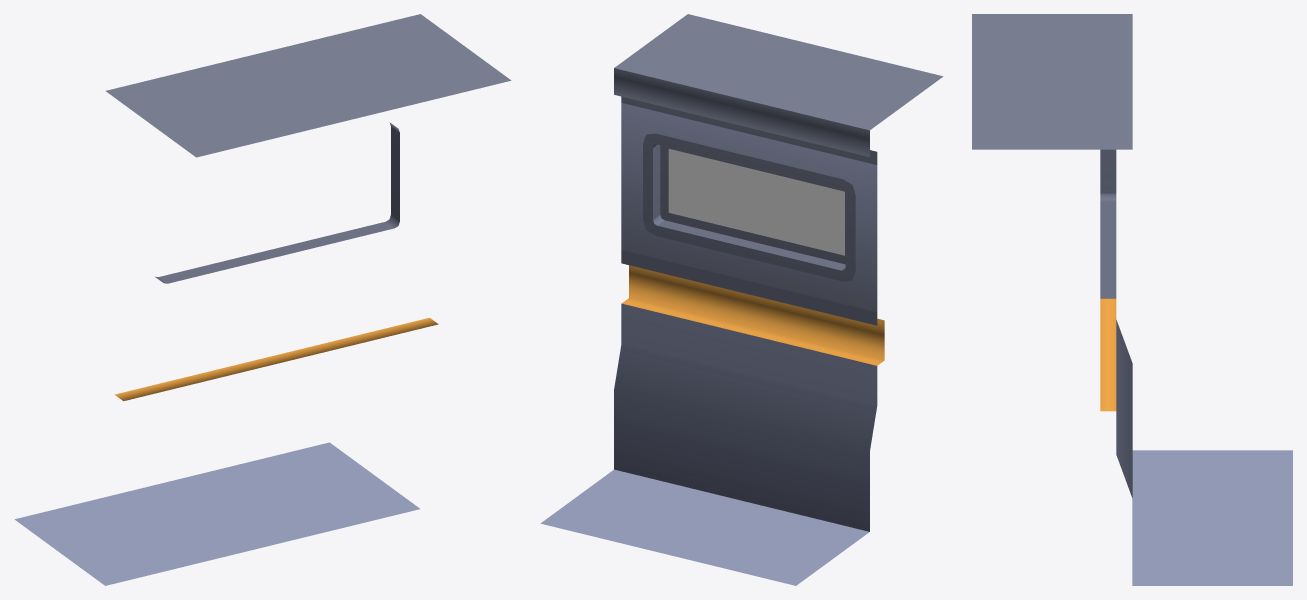
The picture shows the model from 3 angles, left to right: view 1: azimuth 30°, elevation 25°; view 2: azimuth 150°, elevation 25°; view 3: azimuth 270°, elevation 25°; orthographic projection. The views are drawn at different scales.
Visible parts, largest first — view 1: structure_window_wide; view 2: structure_window_wide; view 3: structure_window_wide.
Boxes of the visible parts, x1=… form: structure_window_wide: x1=14, y1=14, x2=511, y2=585; structure_window_wide: x1=540, y1=14, x2=943, y2=585; structure_window_wide: x1=972, y1=14, x2=1292, y2=585.
Bounding box in the file's own units: 2 × 3 × 2.
Materials: 1 (1 with a texture image).
